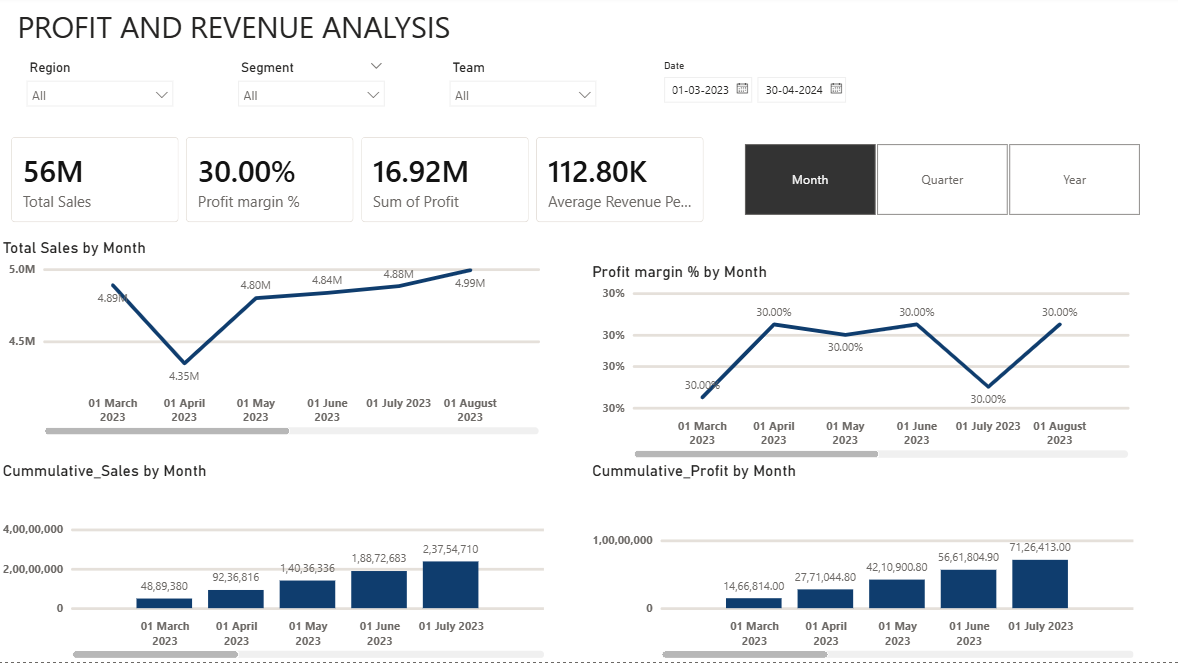

The dashboard page shown, as its layout file describes it:
{"tool":"powerbi","page":{"name":"Profit And Revenue Analysis","canvas":[1280,720],"ordinal":5},"visuals":[{"type":"slicer","fields":{"Values":["Calender.Date"]},"box":[709.2,64.8,294.7,71.2],"z":0},{"type":"slicer","fields":{"Values":["SalesData.Region"]},"box":[24.3,64.8,178.1,71.2],"z":1000},{"type":"slicer","fields":{"Values":["SalesData.Segment"]},"box":[252.6,64.8,178.1,71.2],"z":2000},{"type":"slicer","fields":{"Values":["SalesData.Team"]},"box":[480.9,64.8,178.1,71.2],"z":3000},{"type":"actionButton","title":"PROFIT AND REVENUE ANALYSIS","box":[24.3,11.3,553.8,40.5],"z":4000},{"type":"cardVisual","fields":{"Data":["_All Measures.Total Sales","_All Measures.Profit margin %","Sum(SalesData.Profit)","_All Measures.Average Revenue Per Customer"]},"box":[0,136,783.7,126.3],"z":5000},{"type":"lineChart","fields":{"Category":["Calender.Start of Month"],"Y":["_All Measures.Total Sales"]},"box":[3.2,262.3,594.3,217],"z":6000},{"type":"lineChart","fields":{"Category":["Calender.Start of Month"],"Y":["_All Measures.Profit margin %"]},"box":[639.6,288.2,594.3,216],"z":7000},{"type":"slicer","fields":{"Values":["Period2.Period2"]},"box":[783.7,153.8,476.1,90],"z":8000},{"type":"clusteredColumnChart","fields":{"Category":["Calender.Start of Month"],"Y":["_All Measures.Cummulative_Sales"]},"box":[3.2,503.6,594.3,217],"z":9000},{"type":"clusteredColumnChart","fields":{"Category":["Calender.Start of Month"],"Y":["_All Measures.Cummulative_Profit"]},"box":[639.6,503.6,594.3,217],"z":10000}]}

Visuals, with their boxes in screenshot pixels (x1, y1, x2, y2), scaled from the page's 1280x720 canvas onto the 1178x663 screenshot:
slicer - Calender.Date: crop(653, 60, 924, 125)
slicer - SalesData.Region: crop(22, 60, 186, 125)
slicer - SalesData.Segment: crop(232, 60, 396, 125)
slicer - SalesData.Team: crop(443, 60, 606, 125)
"PROFIT AND REVENUE ANALYSIS" actionButton: crop(22, 10, 532, 48)
cardVisual - _All Measures.Total Sales x _All Measures.Profit margin %: crop(0, 125, 721, 242)
lineChart - Calender.Start of Month x _All Measures.Total Sales: crop(3, 242, 550, 441)
lineChart - Calender.Start of Month x _All Measures.Profit margin %: crop(589, 265, 1136, 464)
slicer - Period2.Period2: crop(721, 142, 1159, 224)
clusteredColumnChart - Calender.Start of Month x _All Measures.Cummulative_Sales: crop(3, 464, 550, 662)
clusteredColumnChart - Calender.Start of Month x _All Measures.Cummulative_Profit: crop(589, 464, 1136, 662)
